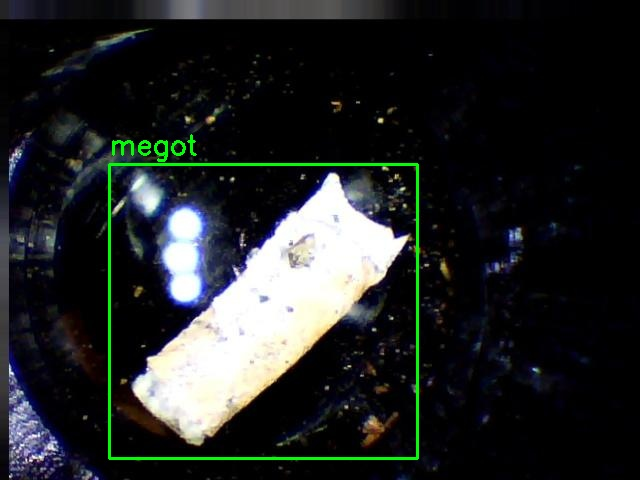megot: (109, 164, 417, 458)
